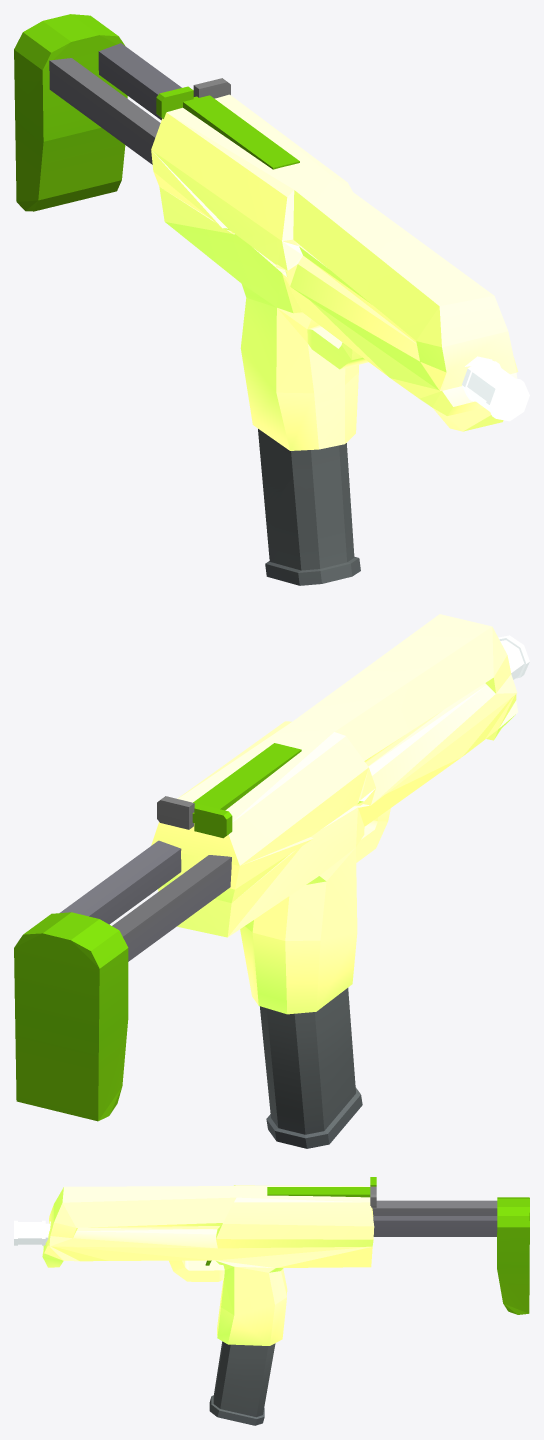
File: Weapon_4.fbx
3 views of the same model, one above another, from view 1: azimuth 30°, elevation 25°; view 2: azimuth 150°, elevation 25°; view 3: azimuth 270°, elevation 25° (orthographic). The views are drawn at different scales.
Visible parts, largest first — view 1: MP7Mesh; view 2: MP7Mesh; view 3: MP7Mesh.
Boxes of the visible parts, x1,y1,x2,y2 form: MP7Mesh: (14,14,529,585); MP7Mesh: (14,614,529,1148); MP7Mesh: (14,1177,529,1425).
Bounding box in the file's own units: 41.72 × 181 × 363.
